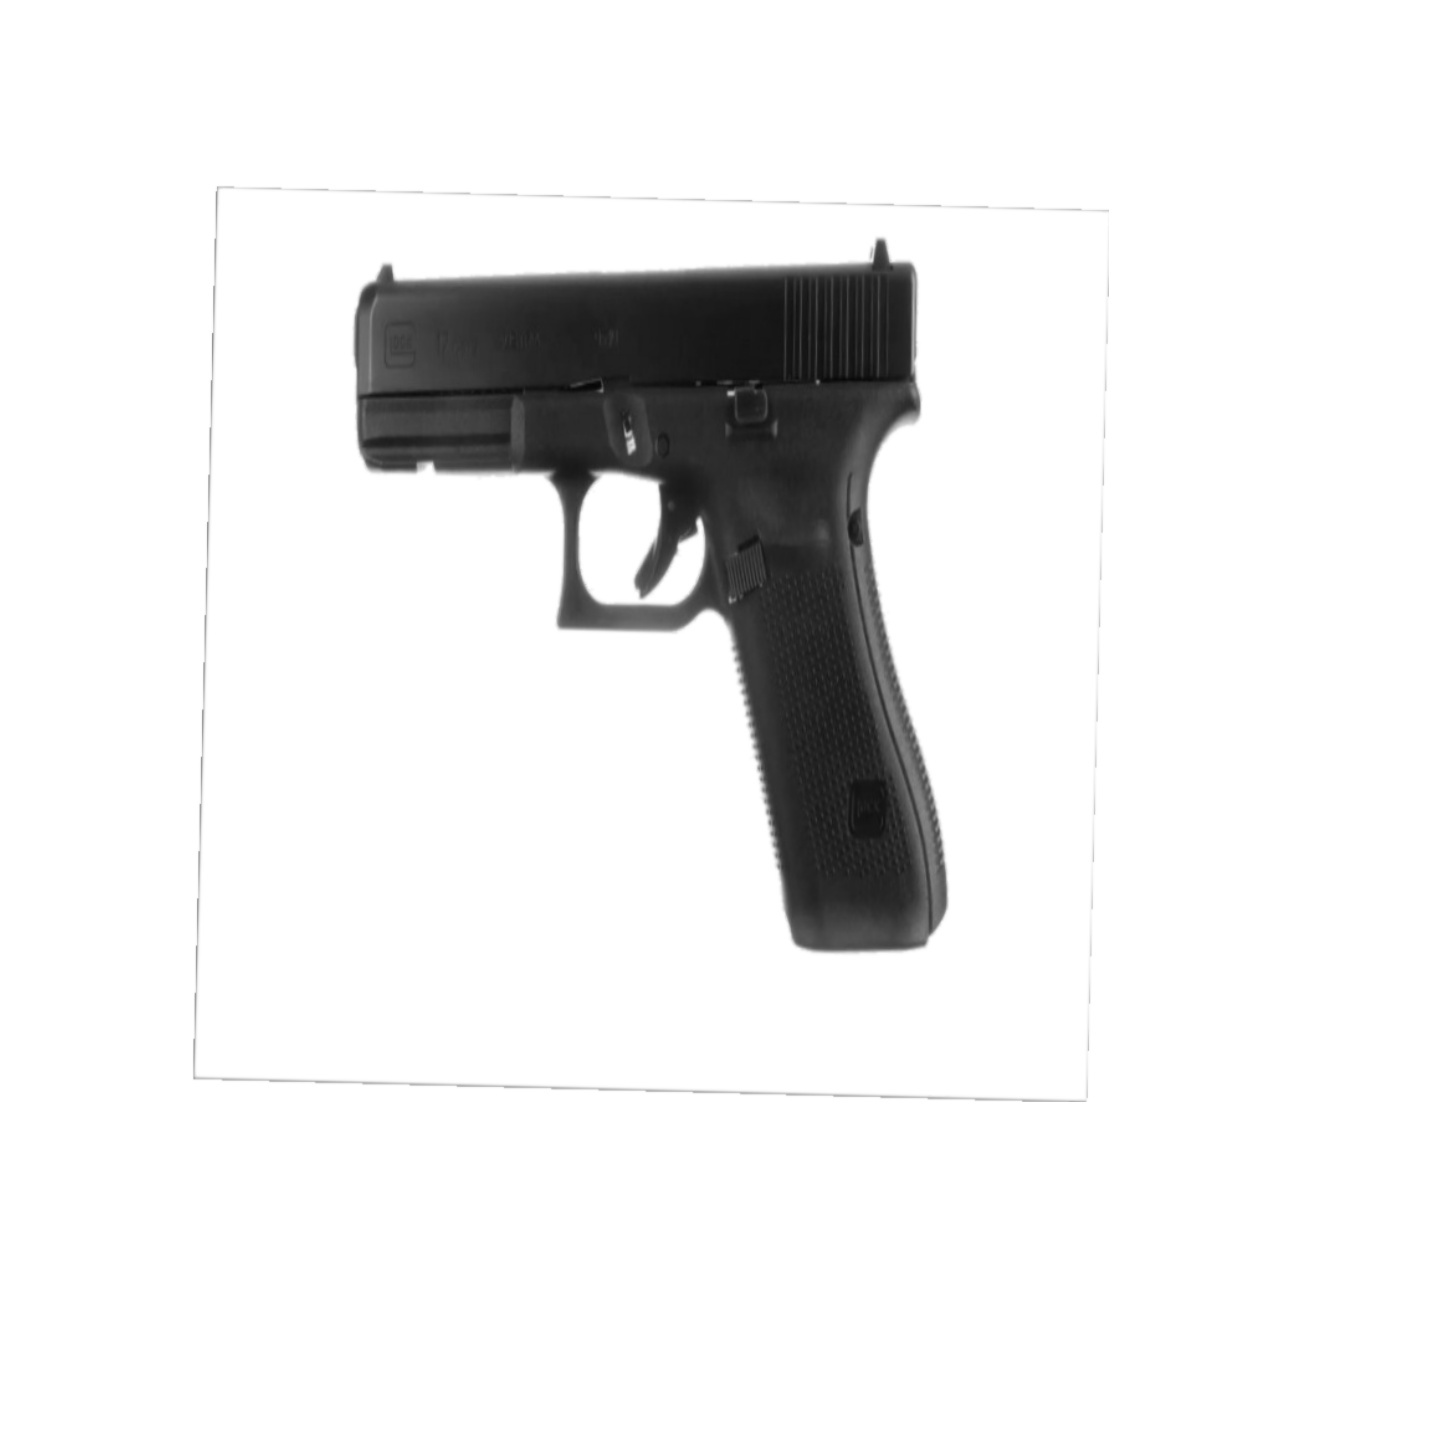gun: (346, 232, 967, 963)
